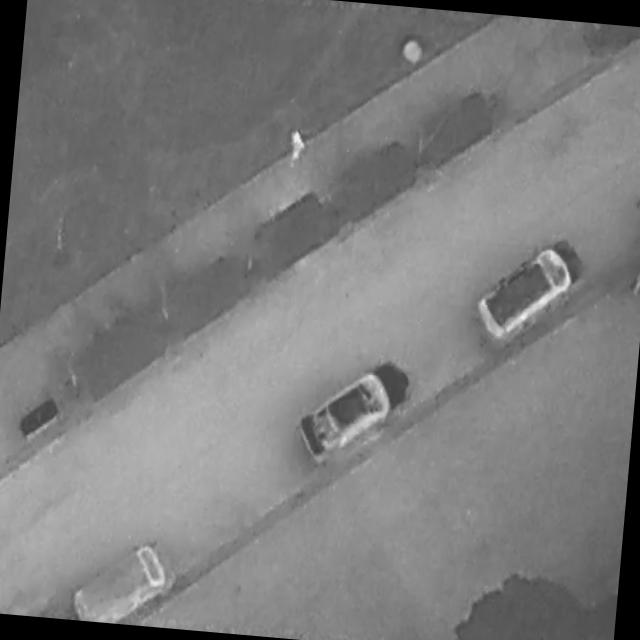person: (287, 128, 306, 168)
